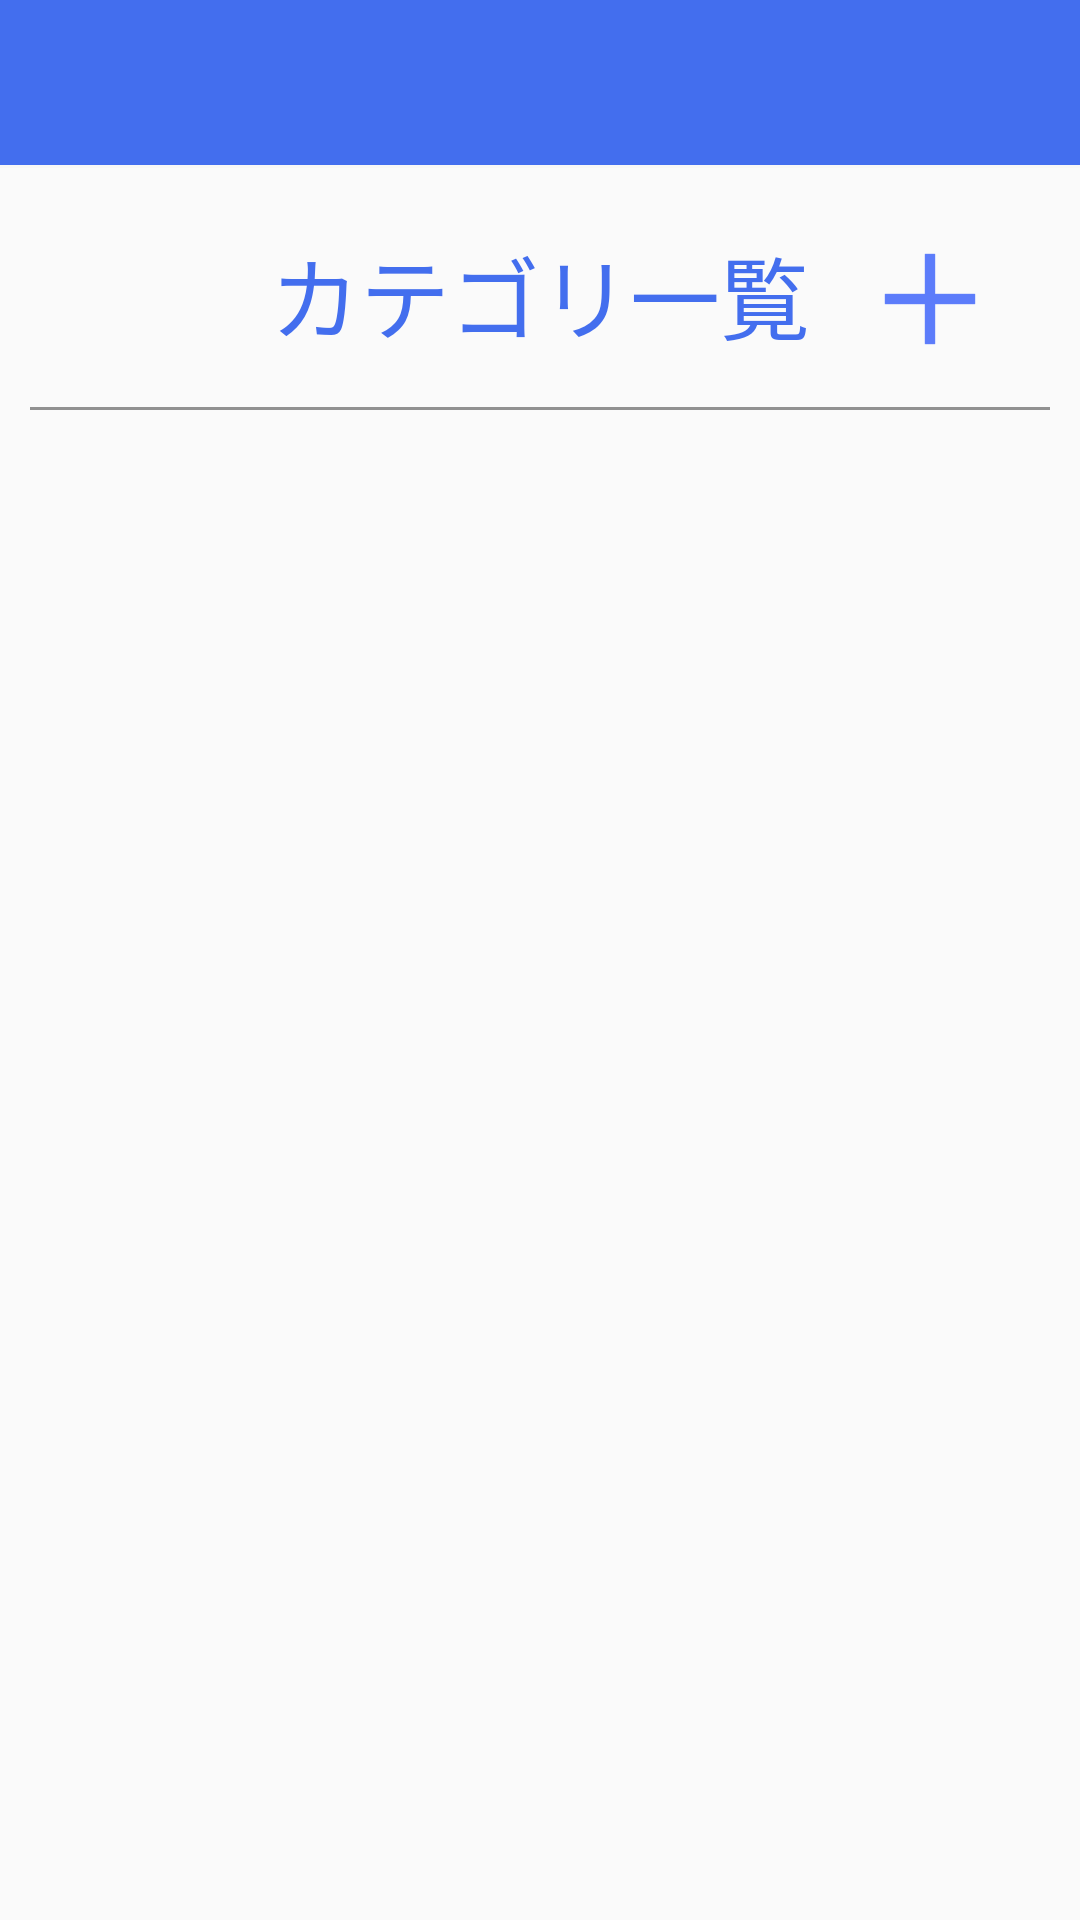

Icons on this 1080×1920 Android screen, each with the point to tap as [x,y]:
plus: [930,299]
